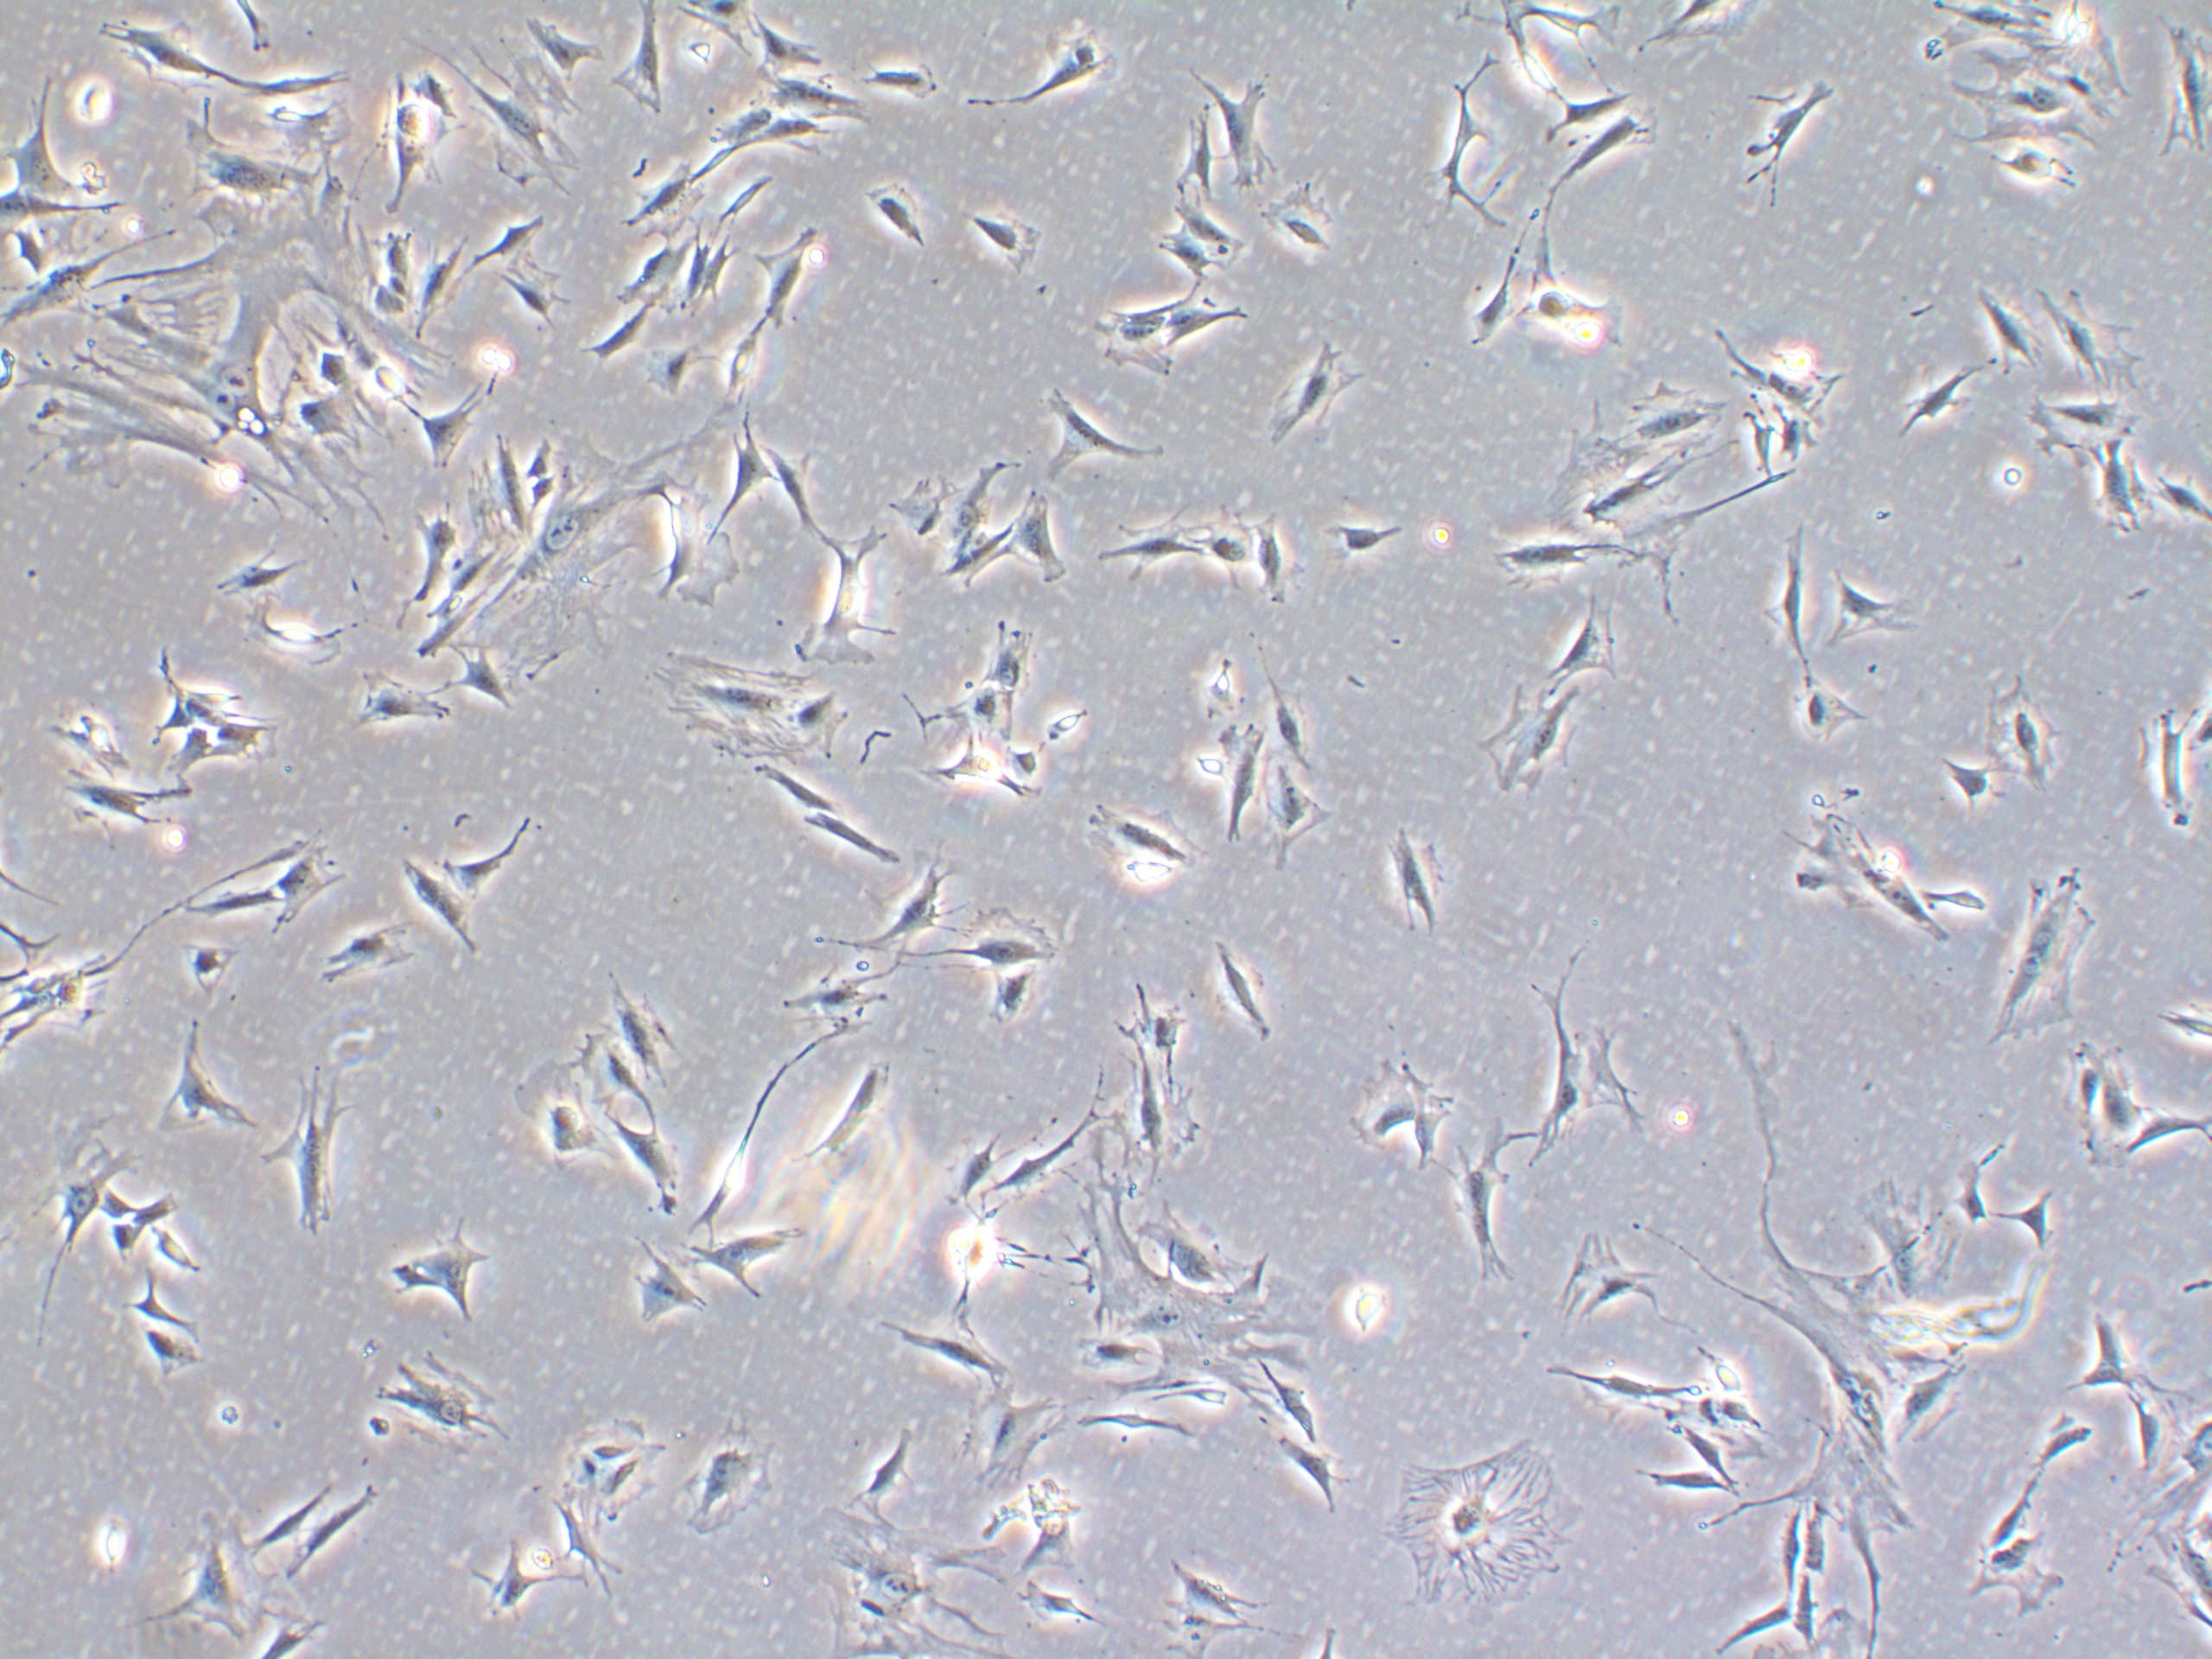small: (1183, 650, 1249, 721), (1036, 690, 1104, 755), (1179, 734, 1231, 781)
spread: (80, 221, 326, 518), (1028, 1161, 1310, 1403), (455, 434, 693, 688), (1752, 1225, 1912, 1596), (1367, 1422, 1595, 1631), (801, 1481, 1031, 1659), (1946, 845, 2102, 1053), (637, 626, 820, 791), (1958, 10, 2148, 169), (0, 1091, 138, 1300), (423, 33, 590, 202), (136, 1497, 301, 1656), (164, 106, 326, 230), (493, 1056, 636, 1194), (1468, 659, 1590, 816), (362, 1342, 519, 1455), (1550, 423, 1700, 538), (362, 59, 463, 216), (1965, 666, 2074, 807), (667, 1420, 787, 1546), (1606, 361, 1737, 464), (2019, 378, 2151, 479), (2036, 270, 2142, 394), (1090, 1068, 1205, 1169)
